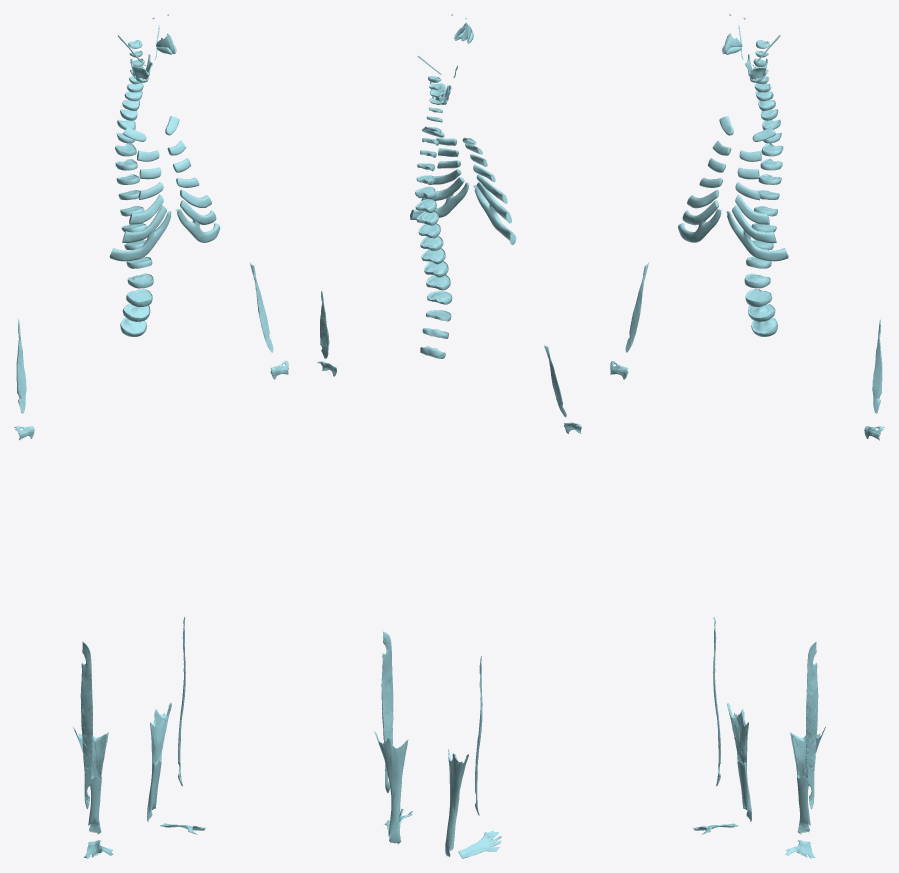
File: male-articular.glb
3 views of the same model, side by side, from view 1: azimuth 30°, elevation 25°; view 2: azimuth 150°, elevation 25°; view 3: azimuth 330°, elevation 25° (orthographic). The views are drawn at different scales.
Visible parts, largest first — view 1: FJ1392, FJ1405, FJ1405M, FJ3345, FJ1476, FJ3255; view 2: FJ1405M, FJ1392M, FJ1405, FJ1424, FJ3345, FJ3255; view 3: FJ1392M, FJ1405M, FJ1405, FJ3255, FJ1476M, FJ3345.
Part boxes in pixels (x1,y1,x2,y2): FJ1392: [80, 641, 92, 809]; FJ1405: [73, 727, 108, 834]; FJ1405M: [147, 703, 171, 821]; FJ3345: [109, 211, 171, 261]; FJ1476: [16, 319, 26, 413]; FJ3255: [175, 209, 220, 242]; FJ1405M: [374, 731, 408, 843]; FJ1392M: [381, 631, 393, 792]; FJ1405: [445, 749, 468, 856]; FJ1424: [458, 830, 501, 858]; FJ3345: [473, 185, 516, 244]; FJ3255: [410, 182, 469, 219]; FJ1392M: [806, 641, 818, 809]; FJ1405M: [790, 727, 825, 834]; FJ1405: [727, 703, 751, 821]; FJ3255: [726, 211, 788, 261]; FJ1476M: [872, 319, 882, 413]; FJ3345: [678, 209, 722, 242].
Size of the model in its own units: 0.5418 by 1.6 by 0.1886.
